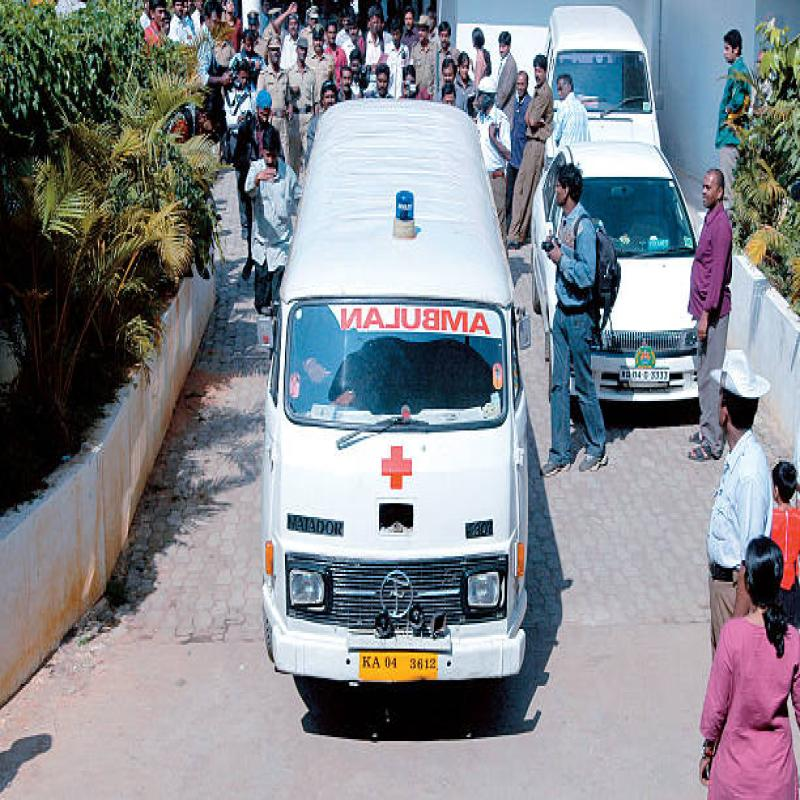ambulance: (250, 71, 552, 730)
